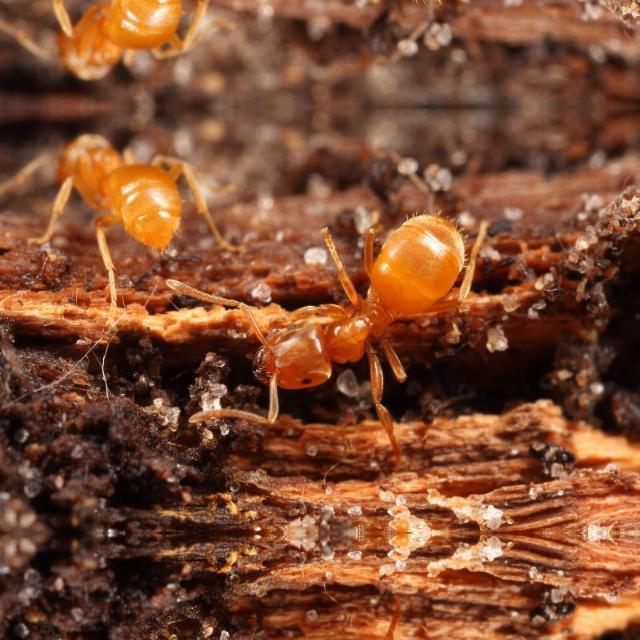Lasius: (199, 217, 503, 423), (8, 114, 216, 270), (7, 0, 215, 98)
